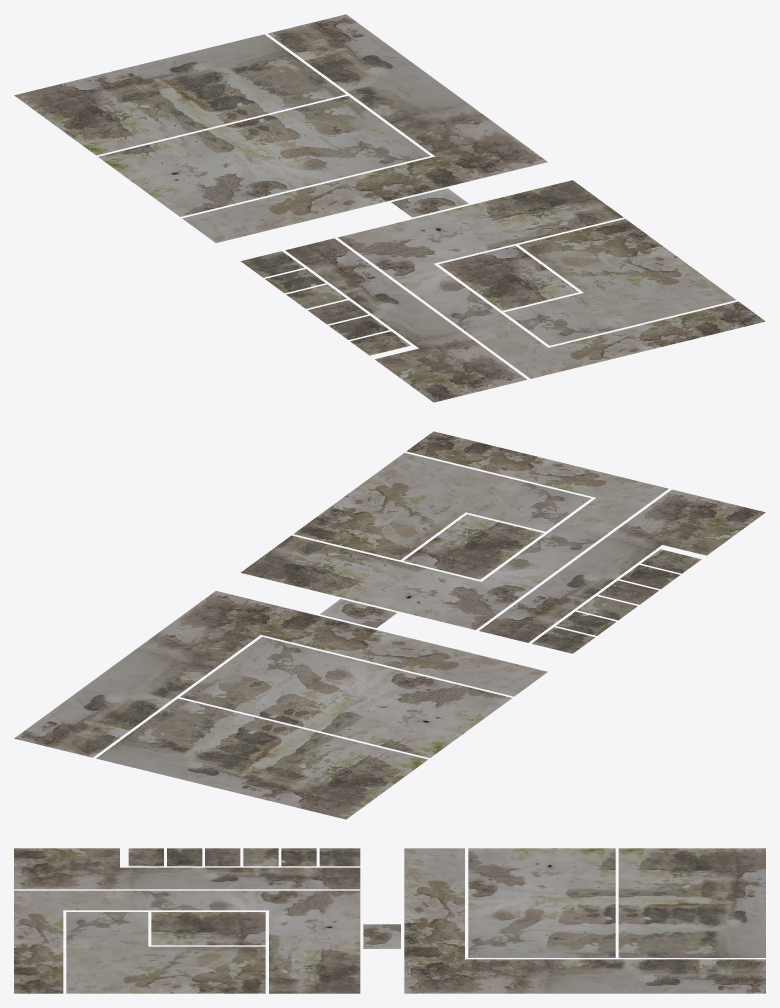
The model's file is A4_H1_Ceiling.FBX.
3 renders of one model, top to bottom at view 1: azimuth 30°, elevation 25°; view 2: azimuth 150°, elevation 25°; view 3: azimuth 270°, elevation 25°, orthographic. The views are drawn at different scales.
Parts seen in each view (by area): view 1: A4_H1_Ceiling; view 2: A4_H1_Ceiling; view 3: A4_H1_Ceiling.
Part boxes in pixels (box(x1,y1,x2,y2)): A4_H1_Ceiling: box(14, 14, 765, 402); A4_H1_Ceiling: box(14, 431, 765, 819); A4_H1_Ceiling: box(14, 848, 765, 993).
Bounding box in the file's own units: 1625 × 0.000366 × 3556.
